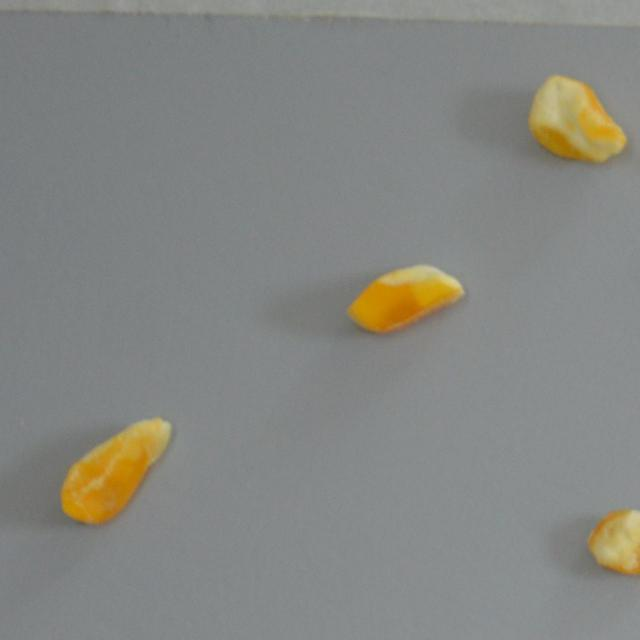dañado: (54, 406, 178, 529), (522, 64, 630, 165), (344, 256, 466, 338), (586, 501, 640, 580)
